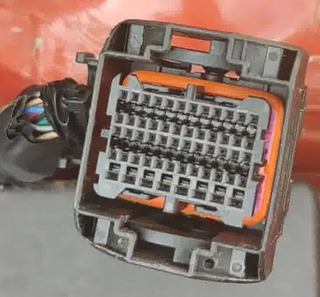connector: (73, 18, 309, 284)
